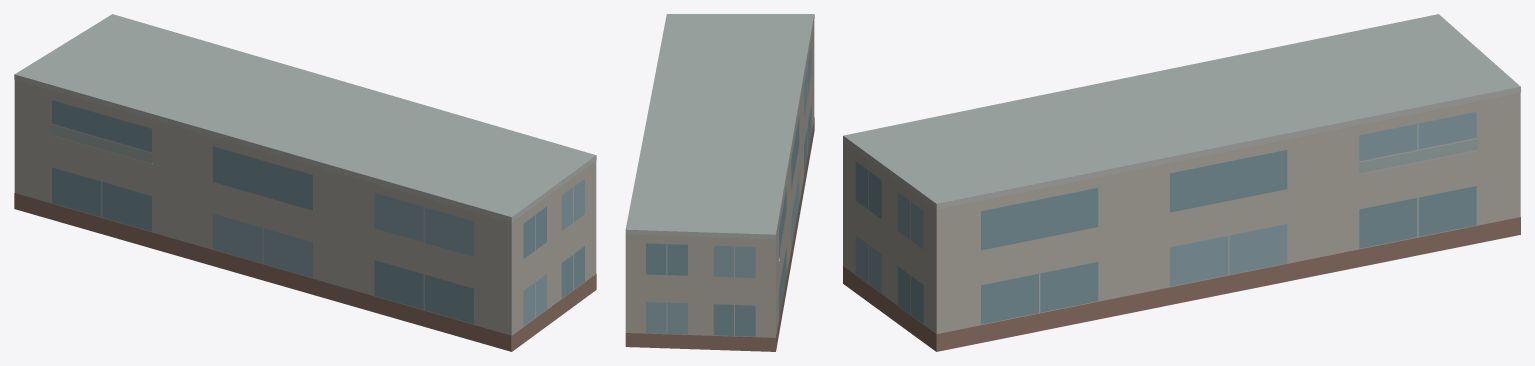
The model's file is survey-upis-32639719.glb.
3 renders of one model, left to right at view 1: azimuth 30°, elevation 25°; view 2: azimuth 150°, elevation 25°; view 3: azimuth 270°, elevation 25°, orthographic. The views are drawn at different scales.
Visible parts, largest first — view 1: survey-upis-32639719.tmp; view 2: survey-upis-32639719.tmp; view 3: survey-upis-32639719.tmp.
Boxes of the visible parts, x1=… form: survey-upis-32639719.tmp: x1=14, y1=14, x2=596, y2=351; survey-upis-32639719.tmp: x1=625, y1=14, x2=814, y2=351; survey-upis-32639719.tmp: x1=843, y1=14, x2=1520, y2=351.
Size of the model in its own units: 16.78 by 6.1 by 25.31.
